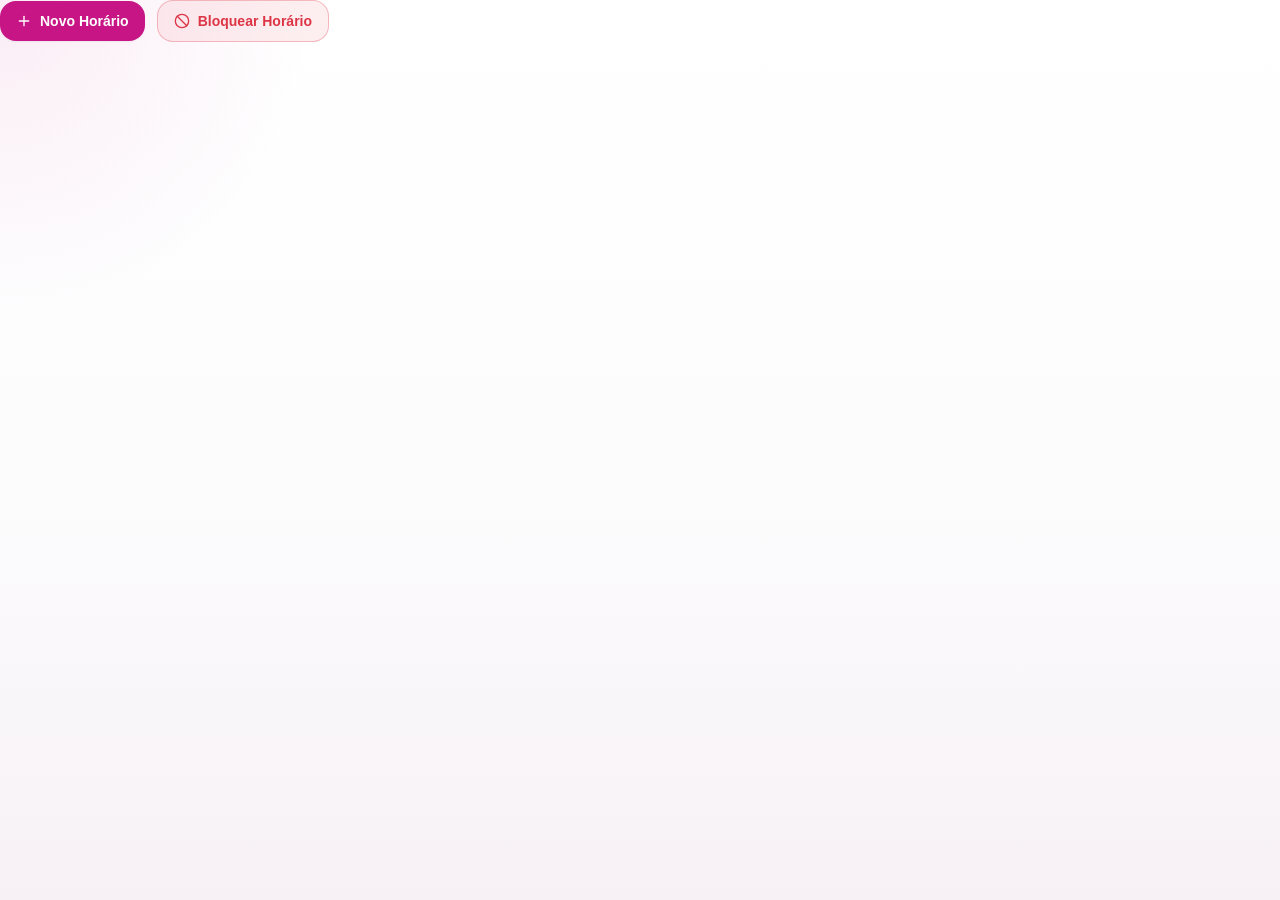
AgendaHeaderActions › renderiza botões de ação e abre os modais correspondentes ao clicar
This screenshot has width=1280, height=900.
# Clica em Novo Horário
What coordinates should you click on to do the following:
click the button "Novo Horário"
I would click on:
 (72, 21)
Its box is [0,1,145,41].
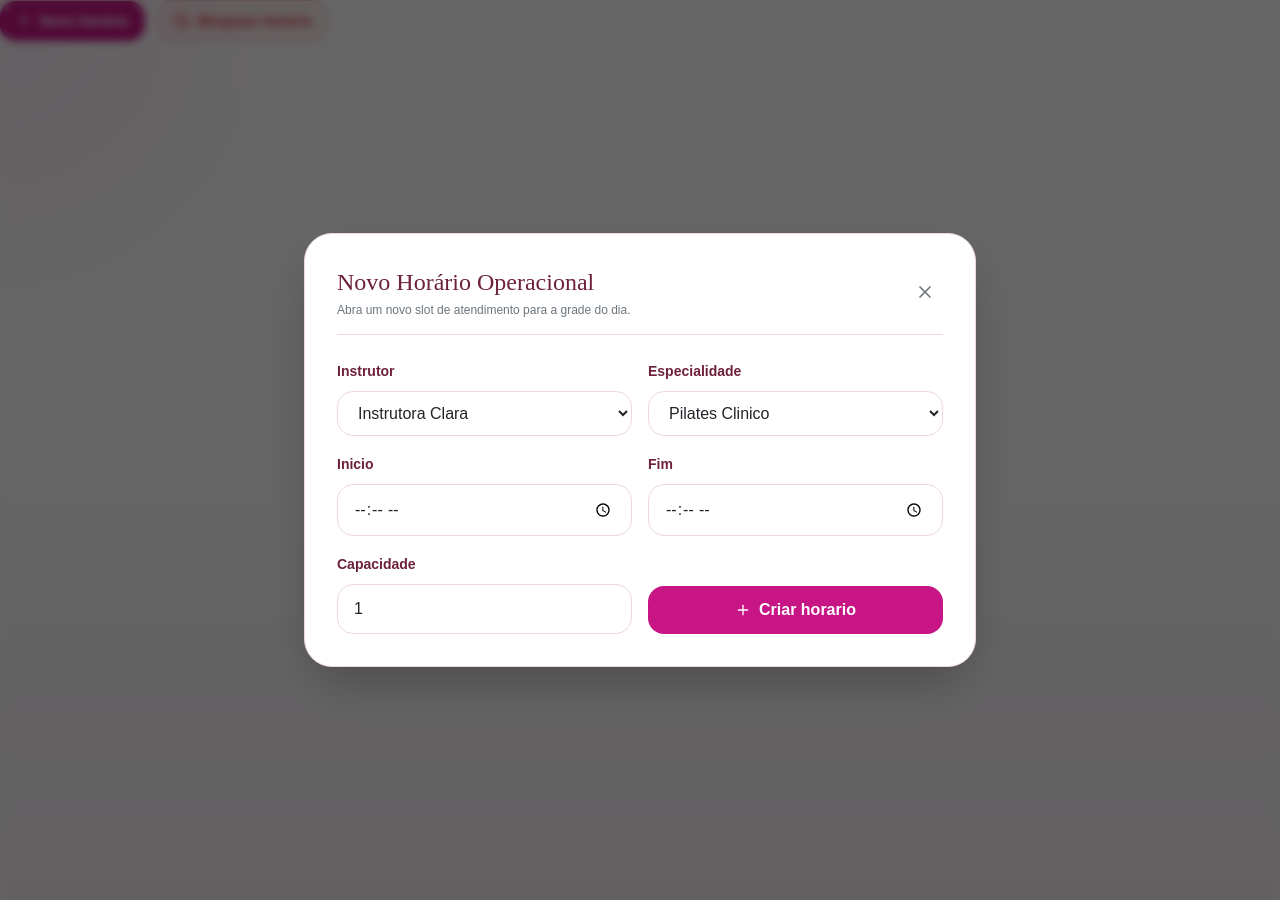
Expected: the dialog is shown
Expected: the heading "Novo Horário Operacional" is shown, [337,266,630,298]
# Fecha o modal
What coordinates should you click on to do the following:
click the button named "Fechar modal de novo horário"
I would click on:
 (925, 292)
Its box is [907,274,943,310].
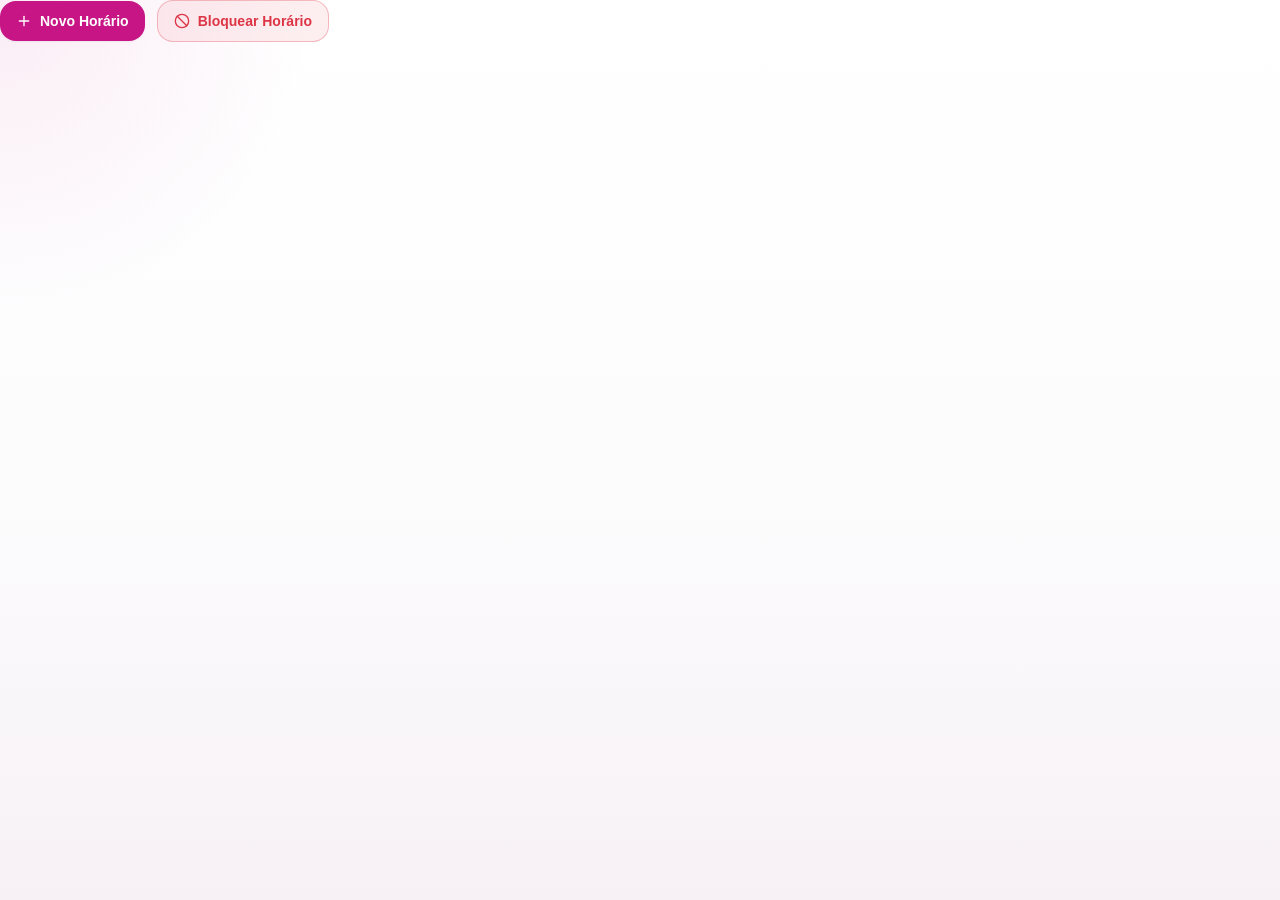
Expected: the dialog is gone
# Clica em Bloquear Horário
What coordinates should you click on to do the following:
click the button "Bloquear Horário"
I would click on:
 (243, 21)
Its box is [157,0,329,42].
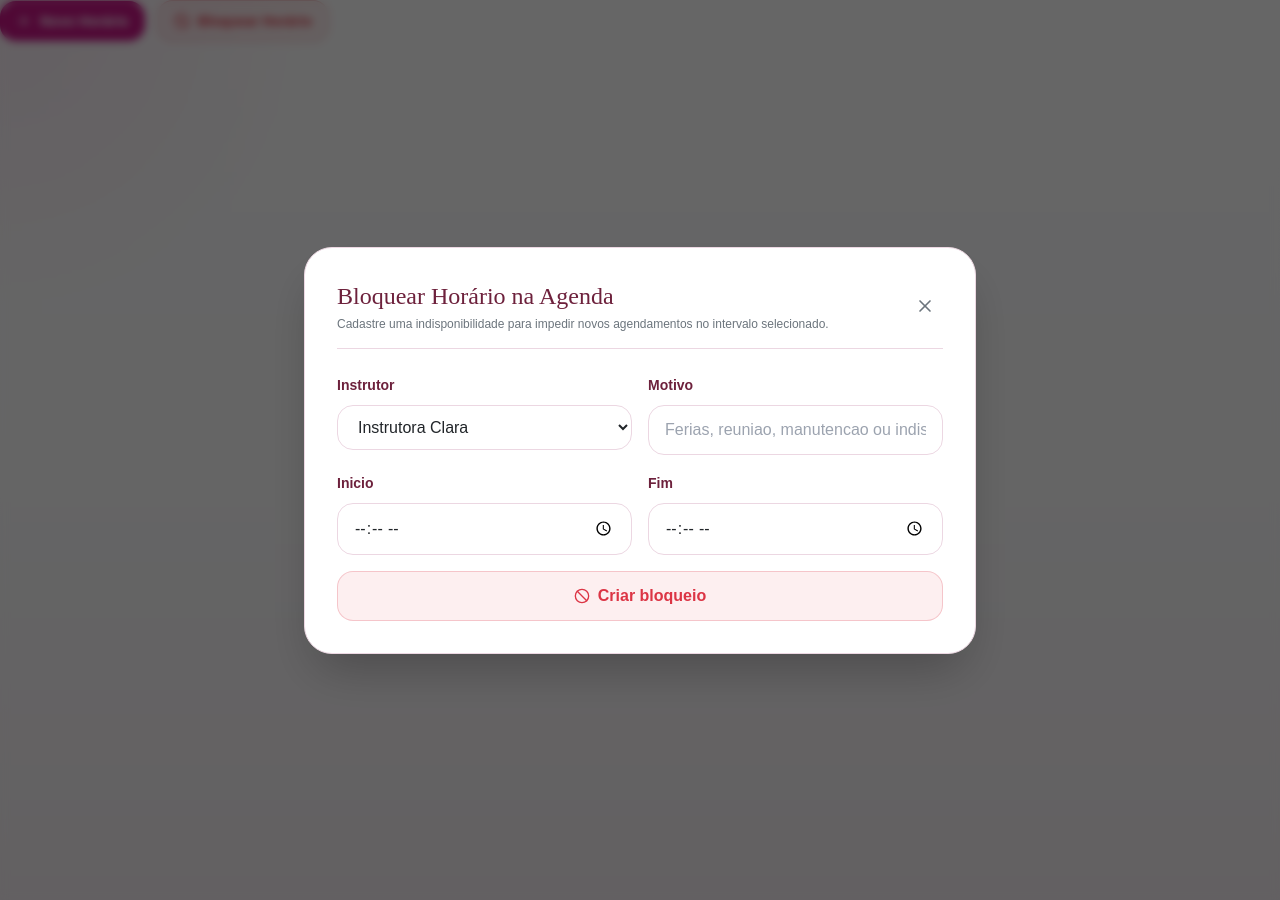
Expected: the dialog is shown
Expected: the heading "Bloquear Horário na Agenda" is shown, [337,282,614,308]
